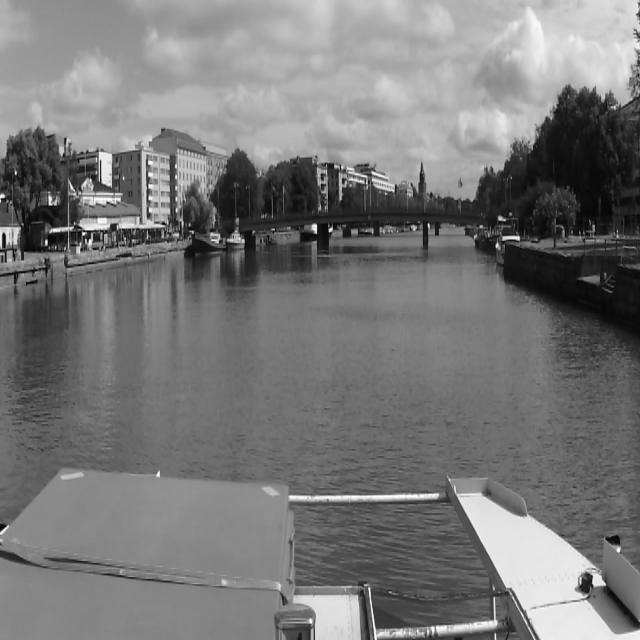ship: (192, 222, 226, 257), (227, 229, 246, 250)
